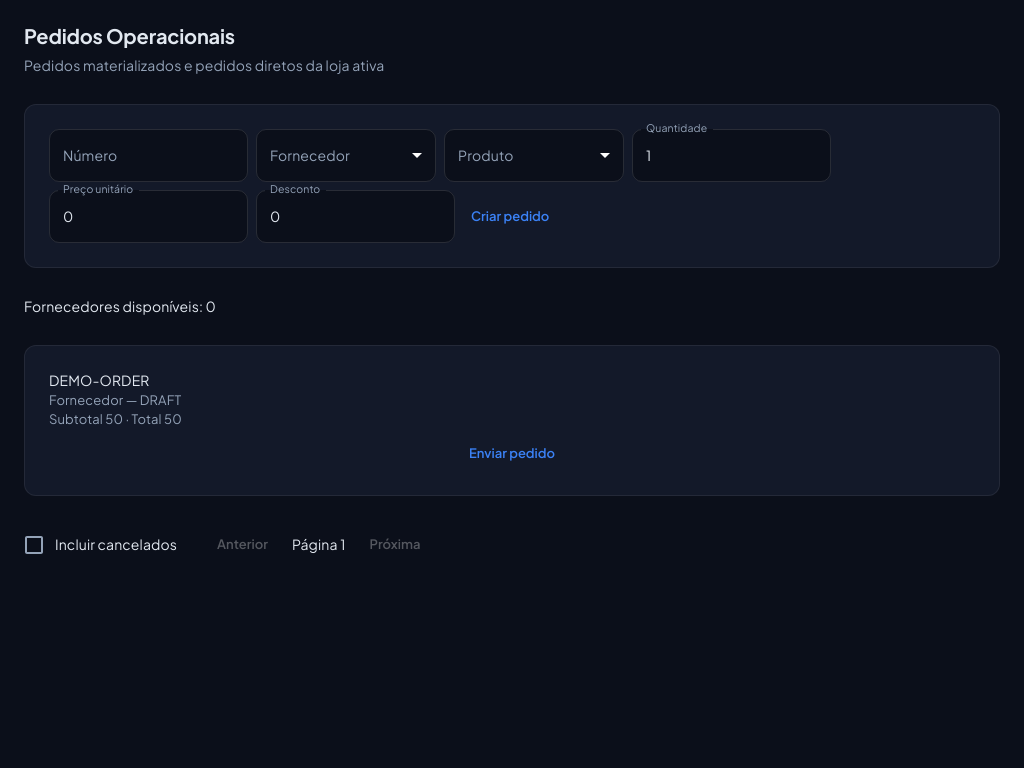
Test case: Pedidos Operacionais › fecha a ação antiga quando o backend muda o pedido durante um conflito
Click the button "Enviar pedido" at (512, 454), box top-left (49, 436), bottom-right (975, 471)
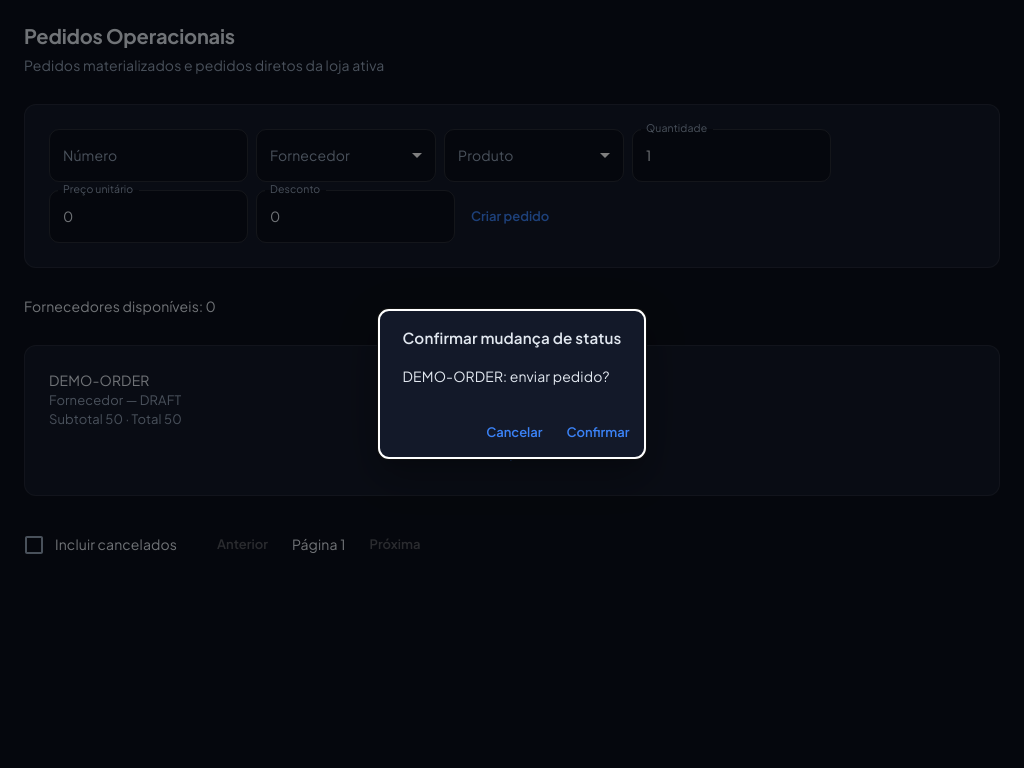
Click the button "Confirmar" at (598, 433), box top-left (558, 415), bottom-right (637, 450)
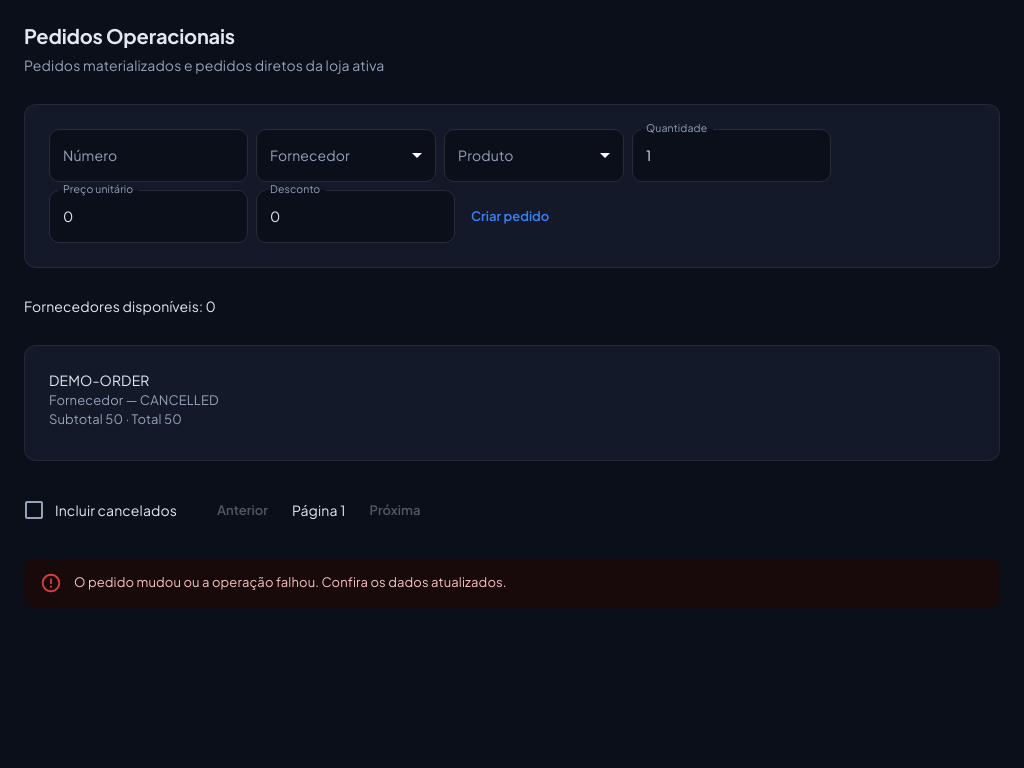
expect the dialog is gone: met
expect the button "Enviar pedido" is gone: met
expect the text "O pedido mudou ou a operação falhou" is shown: met, box top-left (74, 574), bottom-right (507, 590)
